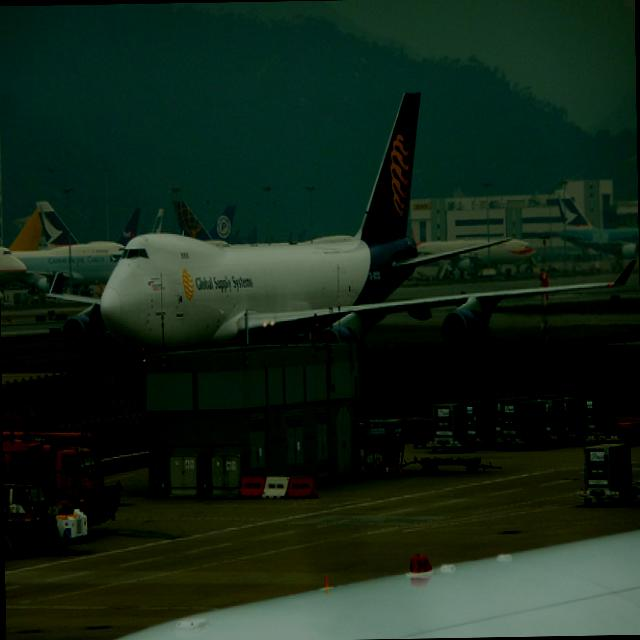Vehicle: (1, 408, 126, 530), (430, 394, 618, 453), (577, 441, 640, 507)
